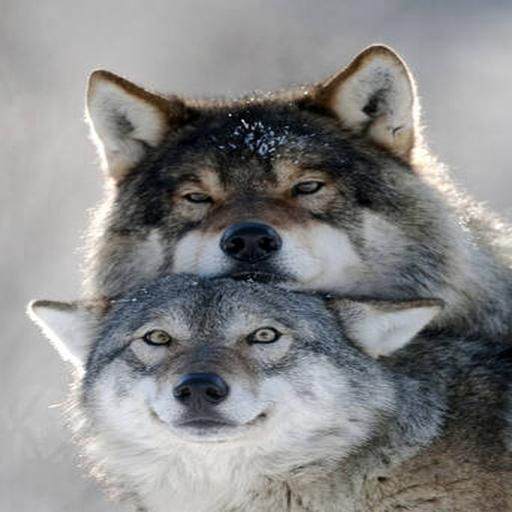Wolf: (26, 41, 512, 510), (29, 270, 512, 510)
